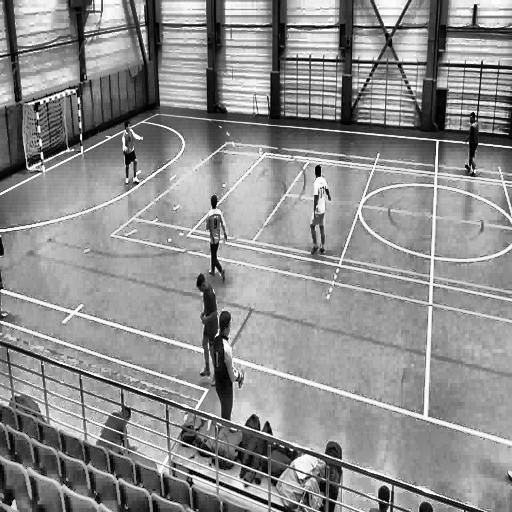ball: (122, 144, 130, 156)
player: (212, 309, 244, 428), (196, 272, 220, 388), (310, 162, 332, 261), (206, 194, 229, 286), (122, 120, 145, 188), (463, 109, 481, 182)
